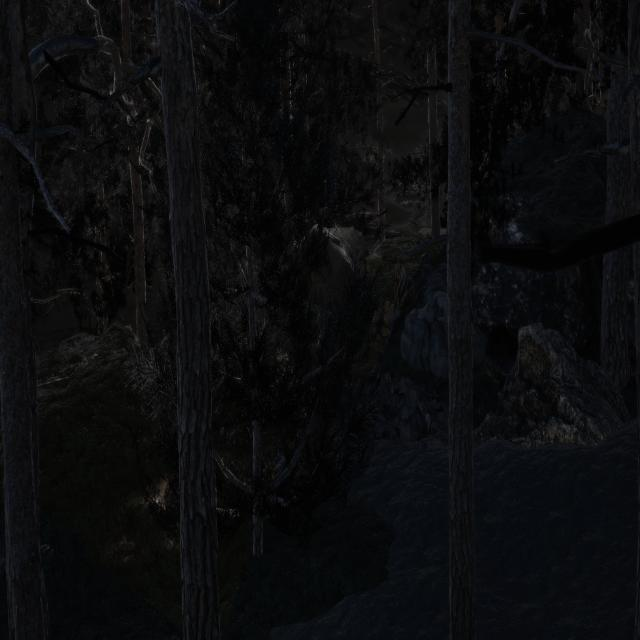Human: (305, 310, 342, 415)
